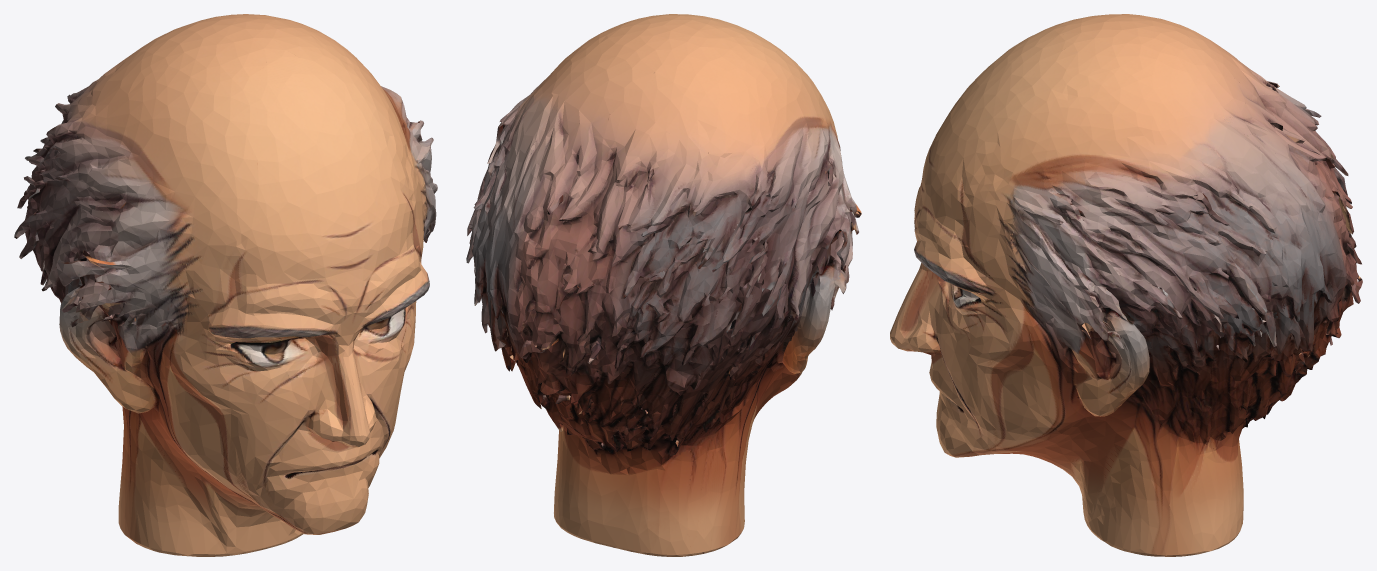
File: side_rteacher_repaired_atlas.glb
The picture shows the model from 3 angles, left to right: view 1: azimuth 30°, elevation 25°; view 2: azimuth 150°, elevation 25°; view 3: azimuth 270°, elevation 25°; orthographic projection. The views are drawn at different scales.
Parts seen in each view (by area): view 1: temp_mesh.ply; view 2: temp_mesh.ply; view 3: temp_mesh.ply.
Part boxes in pixels (<box>): temp_mesh.ply: <box>14,14,437,556</box>; temp_mesh.ply: <box>466,14,861,556</box>; temp_mesh.ply: <box>890,14,1362,556</box>.
Size of the model in its own units: 1.01 by 1.33 by 1.17.
1 material, 1 textured.
